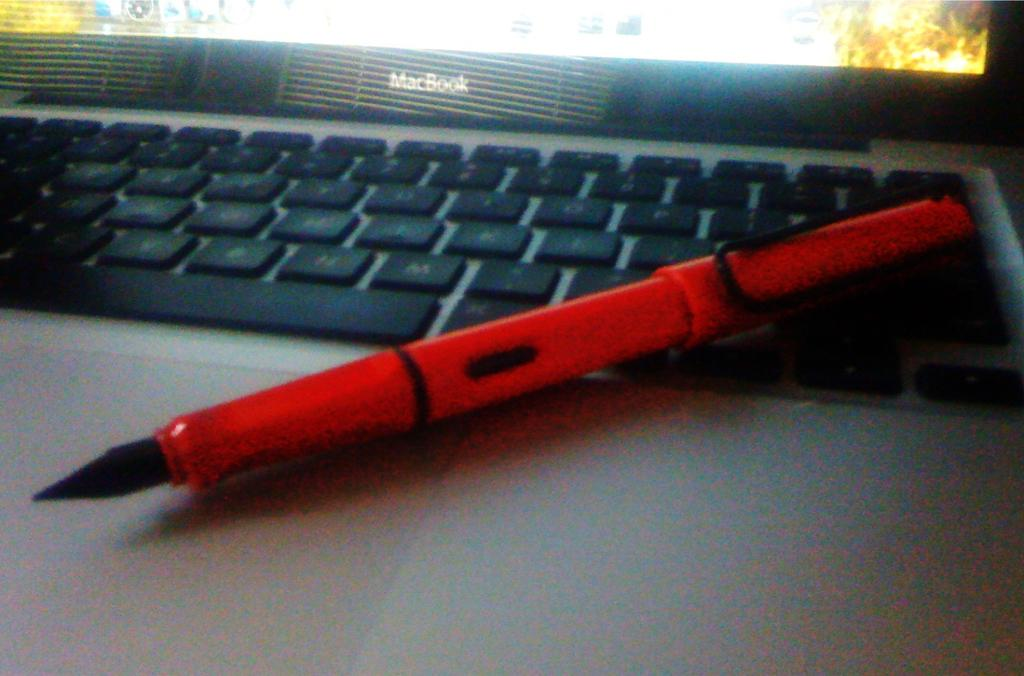pen: (31, 175, 983, 501)
